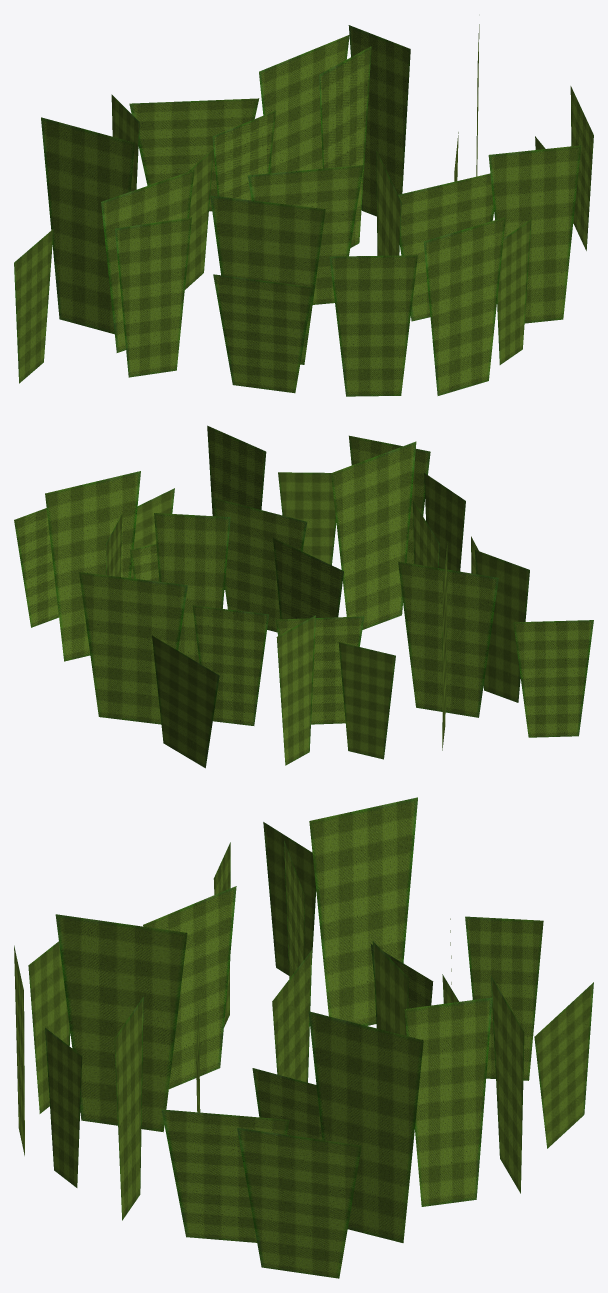
Rendered from lpb_cs_Grass3.fbx.
3 renders of one model, top to bottom at view 1: azimuth 30°, elevation 25°; view 2: azimuth 150°, elevation 25°; view 3: azimuth 270°, elevation 25°, orthographic. The views are drawn at different scales.
Visible parts, largest first — view 1: lpb_cs_Grass3; view 2: lpb_cs_Grass3; view 3: lpb_cs_Grass3.
Boxes of the visible parts, box(x1,y1,x2,y2) form: lpb_cs_Grass3: box(14, 24, 593, 396); lpb_cs_Grass3: box(14, 425, 593, 768); lpb_cs_Grass3: box(14, 797, 593, 1278).
Bounding box in the file's own units: 74.81 × 23.51 × 57.03.
